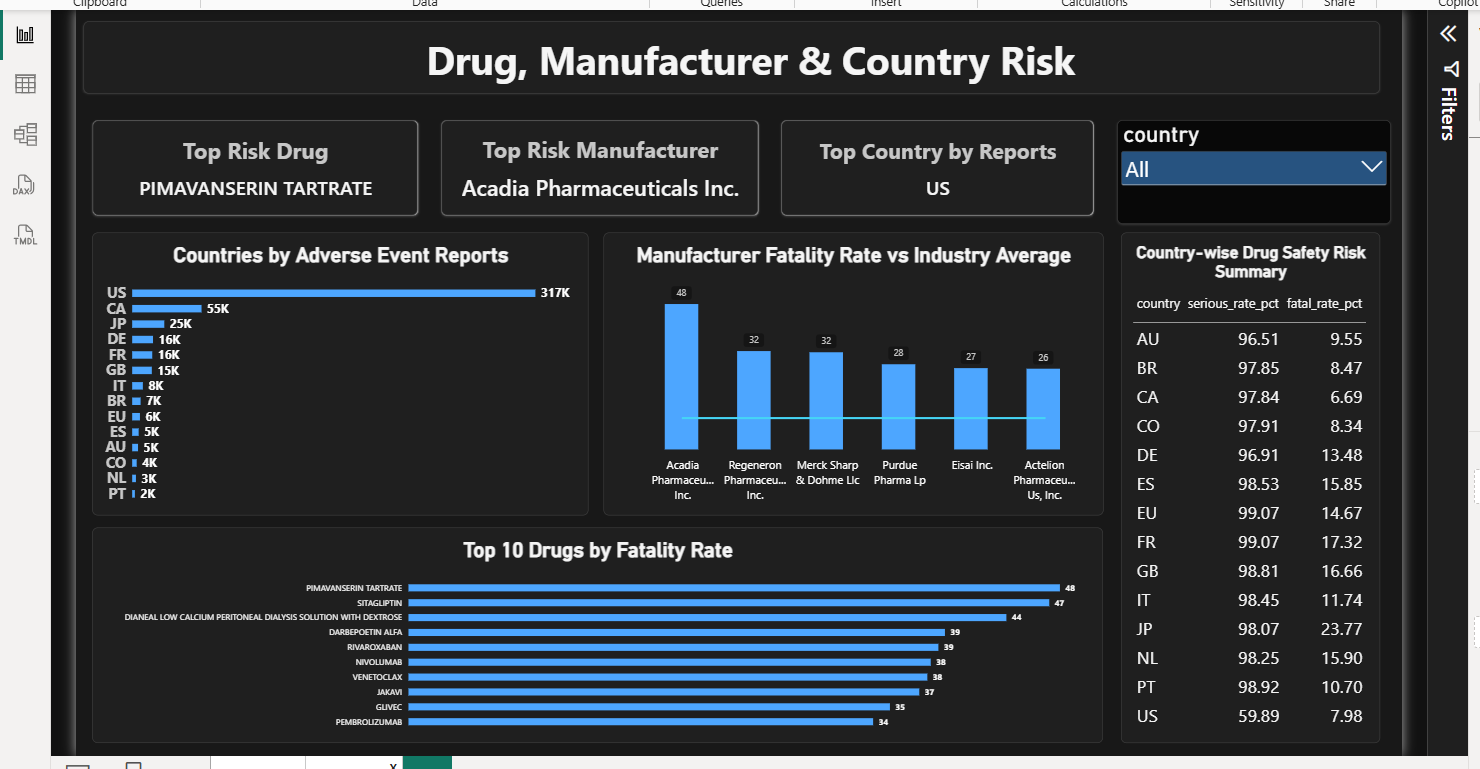

The page's visual inventory and layout, read from the dashboard file:
{"tool":"powerbi","page":{"name":"Page 2","canvas":[1920,1080],"ordinal":1},"visuals":[{"type":"clusteredBarChart","title":"Countries by Adverse Event Reports","fields":{"Category":["Country_Analysis.country"],"Y":["Sum(Country_Analysis.total_reports)"]},"box":[24.4,322.7,718.6,409.9],"z":2},{"type":"tableEx","title":"Country-wise Drug Safety Risk Summary","fields":{"Values":["Country_Analysis.country","Country_Analysis.serious_rate_pct","Country_Analysis.fatal_rate_pct"]},"box":[1512.2,322.7,375,739.5],"z":3},{"type":"clusteredBarChart","title":"Top 10 Drugs by Fatality Rate","fields":{"Category":["Drug_Risk.drug"],"Y":["Avg(Drug_Risk.fatal_rate_pct)"]},"box":[24.4,750,1463.4,312.2],"z":4},{"type":"lineClusteredColumnComboChart","title":"Manufacturer Fatality Rate vs Industry Average","fields":{"Category":["Manufacturer_Risk.manufacturer"],"Y":["Avg(Manufacturer_Risk.fatal_rate_pct)"],"Y2":["Avg(Manufacturer_Risk.industry_average_pct)"]},"box":[764,322.7,723.8,409.9],"z":5},{"type":"textbox","box":[10.9,16.3,1876.6,105],"z":6},{"type":"cardVisual","fields":{"Data":["Country_Analysis.Top Risk Drug"]},"box":[24.4,158.7,472.7,139.5],"z":7},{"type":"cardVisual","fields":{"Data":["Country_Analysis.Top Risk Manufacturer"]},"box":[528.5,158.7,460.5,139.5],"z":8},{"type":"cardVisual","fields":{"Data":["Country_Analysis.Top Country by Reports"]},"box":[1020.4,158.7,453.5,139.5],"z":9},{"type":"slicer","fields":{"Values":["Country_Analysis.country"]},"box":[1507,158.7,395.9,150],"z":10}]}

Visuals, with their boxes on the page's 1920x1080 design canvas (x1, y1, x2, y2). These are canvas units, not pixel positions in the 1480x769 screenshot, which may show the page scaled, cropped or inside an application window:
"Countries by Adverse Event Reports" clusteredBarChart: {"x1": 24, "y1": 323, "x2": 743, "y2": 733}
"Country-wise Drug Safety Risk Summary" tableEx: {"x1": 1512, "y1": 323, "x2": 1887, "y2": 1062}
"Top 10 Drugs by Fatality Rate" clusteredBarChart: {"x1": 24, "y1": 750, "x2": 1488, "y2": 1062}
"Manufacturer Fatality Rate vs Industry Average" lineClusteredColumnComboChart: {"x1": 764, "y1": 323, "x2": 1488, "y2": 733}
textbox: {"x1": 11, "y1": 16, "x2": 1888, "y2": 121}
cardVisual - Country_Analysis.Top Risk Drug: {"x1": 24, "y1": 159, "x2": 497, "y2": 298}
cardVisual - Country_Analysis.Top Risk Manufacturer: {"x1": 528, "y1": 159, "x2": 989, "y2": 298}
cardVisual - Country_Analysis.Top Country by Reports: {"x1": 1020, "y1": 159, "x2": 1474, "y2": 298}
slicer - Country_Analysis.country: {"x1": 1507, "y1": 159, "x2": 1903, "y2": 309}
